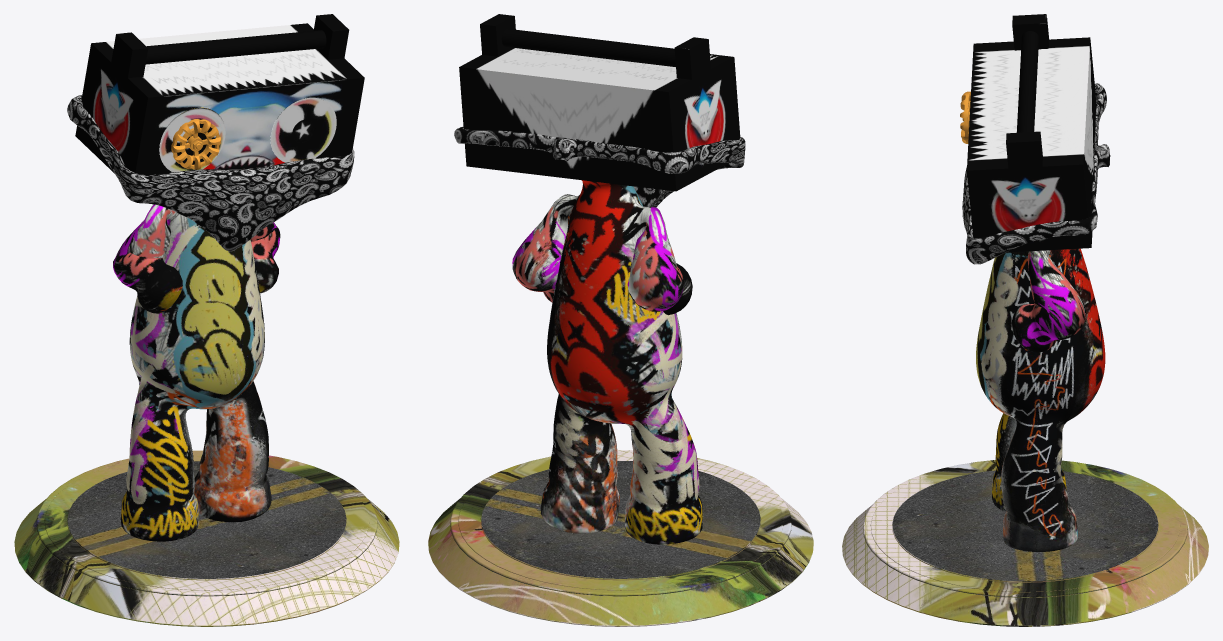
The model's file is 224_sanitized.glb.
3 renders of one model, left to right at view 1: azimuth 30°, elevation 25°; view 2: azimuth 150°, elevation 25°; view 3: azimuth 270°, elevation 25°, orthographic. The views are drawn at different scales.
Parts seen in each view (by area): view 1: BBody; view 2: BBody; view 3: BBody.
Boxes of the visible parts, x1,y1,x2,y2 form: BBody: (14,14,399,626); BBody: (428,14,813,626); BBody: (842,14,1208,626).
Size of the model in its own units: 1.45 by 2.17 by 1.45.
Materials: 6 (6 with a texture image).
